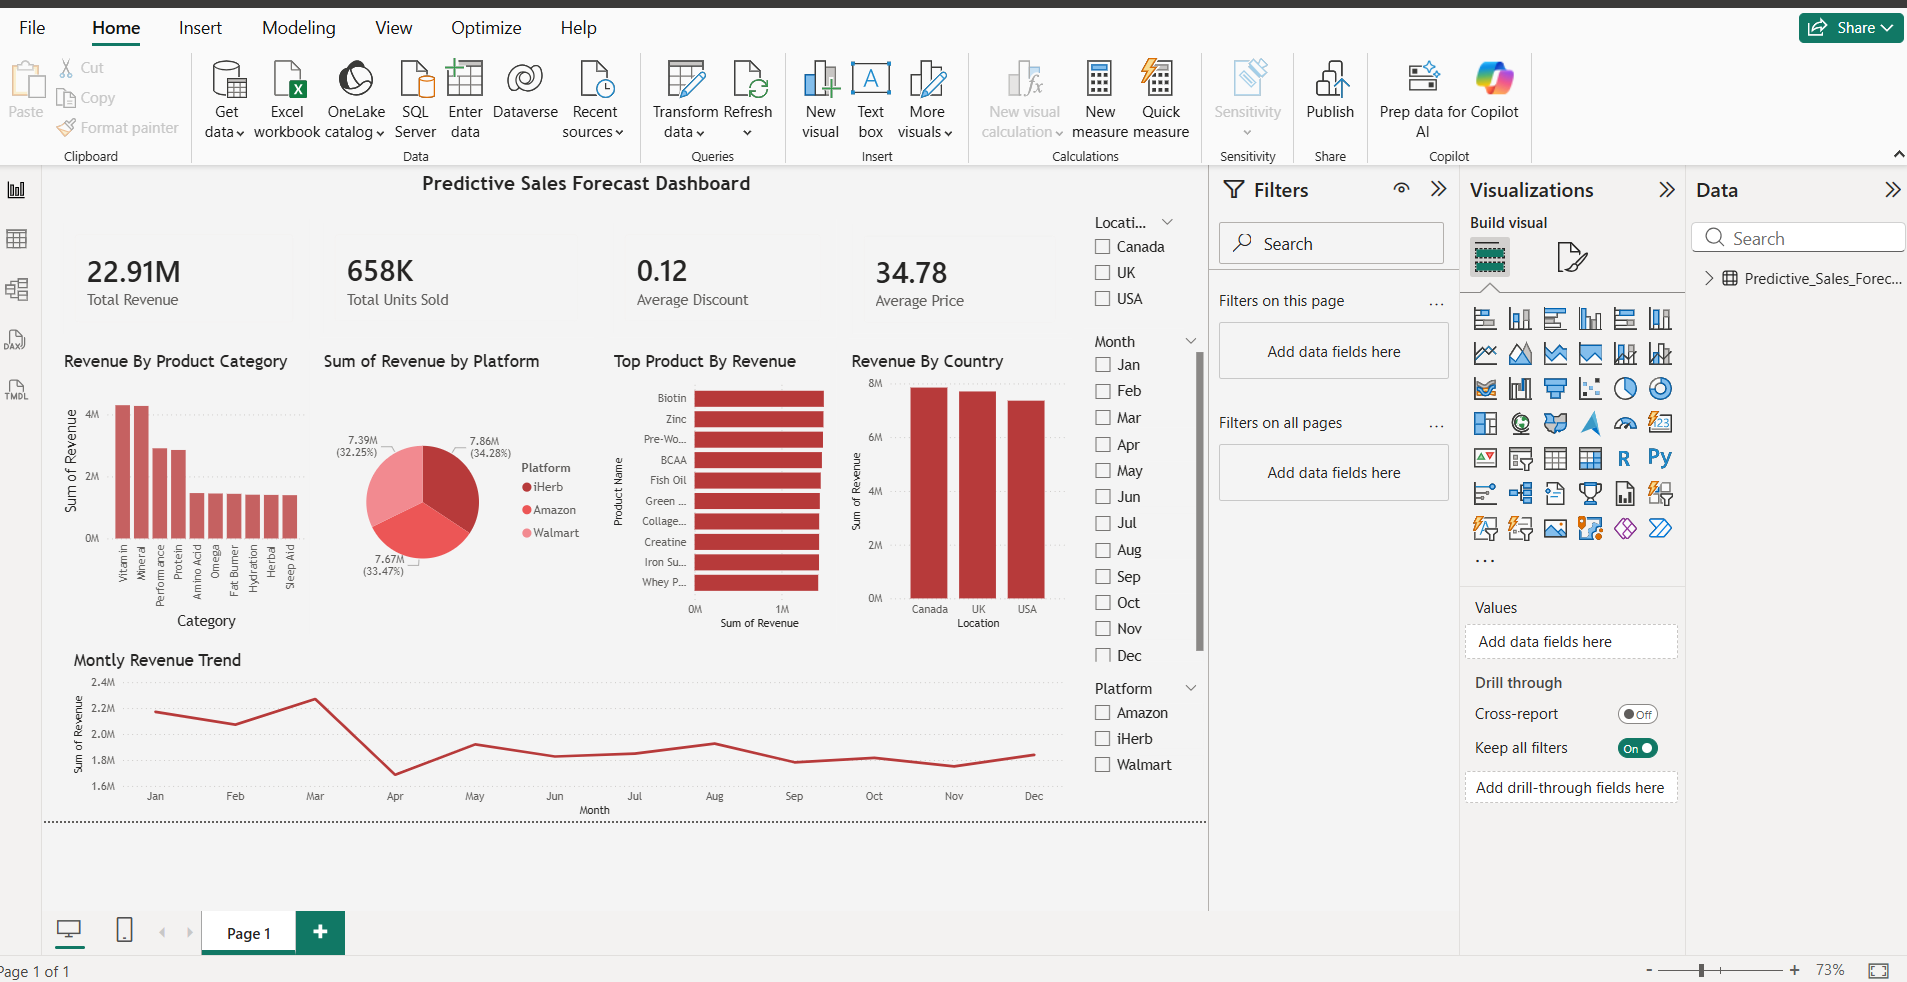

What the dashboard file says about the page in this screenshot:
{"tool":"powerbi","page":{"name":"Page 1","canvas":[1280,720],"ordinal":0},"visuals":[{"type":"cardVisual","fields":{"Data":["Predictive_Sales_Forecast.Total Revenue"]},"box":[19.2,59,274.4,131.7],"z":0},{"type":"cardVisual","fields":{"Data":["Predictive_Sales_Forecast.Total Units Sold"]},"box":[304.6,59,301.9,130.4],"z":1000},{"type":"cardVisual","fields":{"Data":["Predictive_Sales_Forecast.Average Price"]},"box":[885.1,60.4,245.6,130.4],"z":2000},{"type":"cardVisual","fields":{"Data":["Predictive_Sales_Forecast.Average Discount"]},"box":[623,59,249.7,130.4],"z":3000},{"type":"clusteredColumnChart","title":"Revenue By Product Category","fields":{"Category":["Predictive_Sales_Forecast.Category"],"Y":["Sum(Predictive_Sales_Forecast.Revenue)"]},"box":[19.2,204.5,274.4,310.1],"z":4000},{"type":"clusteredBarChart","title":"Top Product By Revenue","fields":{"Y":["Sum(Predictive_Sales_Forecast.Revenue)"],"Category":["Predictive_Sales_Forecast.Product Name"]},"box":[623,204.5,249.7,310.1],"z":5000},{"type":"lineChart","title":"Montly Revenue Trend","fields":{"Category":["Predictive_Sales_Forecast.Month"],"Y":["Sum(Predictive_Sales_Forecast.Revenue)"]},"box":[30.2,532.4,1099.1,188],"z":6000},{"type":"pieChart","fields":{"Category":["Predictive_Sales_Forecast.Platform"],"Y":["Sum(Predictive_Sales_Forecast.Revenue)"]},"box":[304.6,204.5,301.9,310.1],"z":7000},{"type":"lineStackedColumnComboChart","title":"Revenue By Country","fields":{"Category":["Predictive_Sales_Forecast.Location"],"Y":["Sum(Predictive_Sales_Forecast.Revenue)"]},"box":[883.7,204.5,245.6,310.1],"z":8000},{"type":"slicer","fields":{"Values":["Predictive_Sales_Forecast.Month"]},"box":[1143.1,179.8,137.2,370.5],"z":9000},{"type":"slicer","fields":{"Values":["Predictive_Sales_Forecast.Platform"]},"box":[1143.1,561.2,137.2,159.2],"z":10000},{"type":"slicer","fields":{"Values":["Predictive_Sales_Forecast.Location"]},"box":[1143.1,49.4,111.1,130.4],"z":11000},{"type":"textbox","box":[199,2.7,797.3,48],"z":12000}]}

Visuals, with their boxes on the page's 1280x720 design canvas (x1, y1, x2, y2). These are canvas units, not pixel positions in the 1907x982 screenshot, which may show the page scaled, cropped or inside an application window:
cardVisual - Predictive_Sales_Forecast.Total Revenue: {"left": 19, "top": 59, "right": 294, "bottom": 191}
cardVisual - Predictive_Sales_Forecast.Total Units Sold: {"left": 305, "top": 59, "right": 606, "bottom": 189}
cardVisual - Predictive_Sales_Forecast.Average Price: {"left": 885, "top": 60, "right": 1131, "bottom": 191}
cardVisual - Predictive_Sales_Forecast.Average Discount: {"left": 623, "top": 59, "right": 873, "bottom": 189}
"Revenue By Product Category" clusteredColumnChart: {"left": 19, "top": 204, "right": 294, "bottom": 515}
"Top Product By Revenue" clusteredBarChart: {"left": 623, "top": 204, "right": 873, "bottom": 515}
"Montly Revenue Trend" lineChart: {"left": 30, "top": 532, "right": 1129, "bottom": 720}
pieChart - Predictive_Sales_Forecast.Platform x Sum(Predictive_Sales_Forecast.Revenue): {"left": 305, "top": 204, "right": 606, "bottom": 515}
"Revenue By Country" lineStackedColumnComboChart: {"left": 884, "top": 204, "right": 1129, "bottom": 515}
slicer - Predictive_Sales_Forecast.Month: {"left": 1143, "top": 180, "right": 1280, "bottom": 550}
slicer - Predictive_Sales_Forecast.Platform: {"left": 1143, "top": 561, "right": 1280, "bottom": 720}
slicer - Predictive_Sales_Forecast.Location: {"left": 1143, "top": 49, "right": 1254, "bottom": 180}
textbox: {"left": 199, "top": 3, "right": 996, "bottom": 51}
